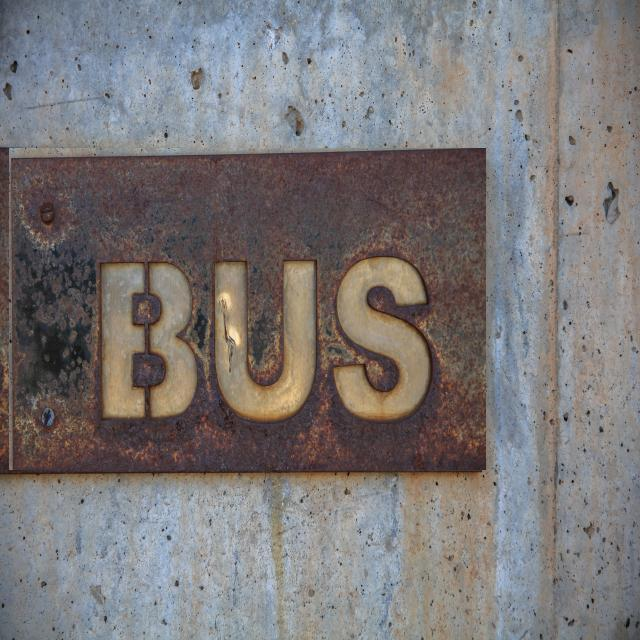Corrosion: (22, 149, 486, 260), (86, 384, 446, 473), (413, 219, 486, 472), (15, 226, 112, 396), (12, 340, 115, 474), (396, 180, 487, 330), (14, 240, 96, 396), (90, 221, 246, 284), (281, 221, 369, 294), (247, 240, 288, 386), (312, 257, 347, 410), (10, 158, 49, 274), (347, 226, 436, 270), (182, 262, 213, 380), (236, 223, 309, 273), (0, 147, 11, 460), (367, 286, 430, 326), (364, 350, 400, 392), (132, 353, 166, 388), (132, 293, 161, 326), (144, 262, 149, 296)
